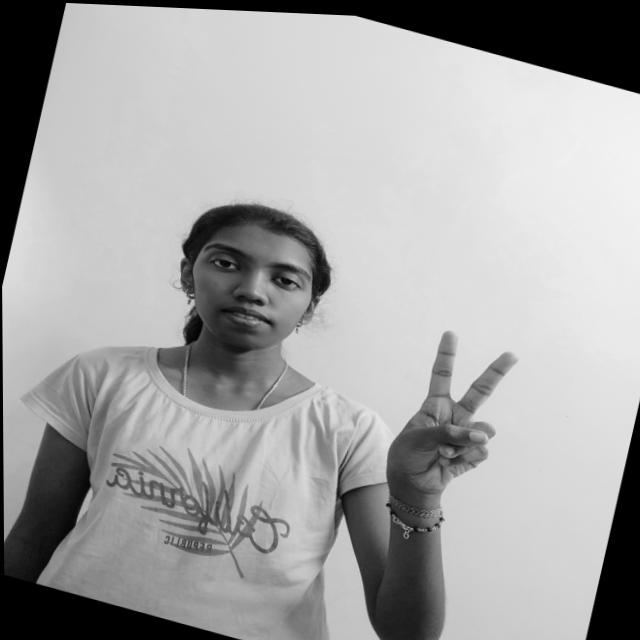Victory: (370, 310, 525, 524)
